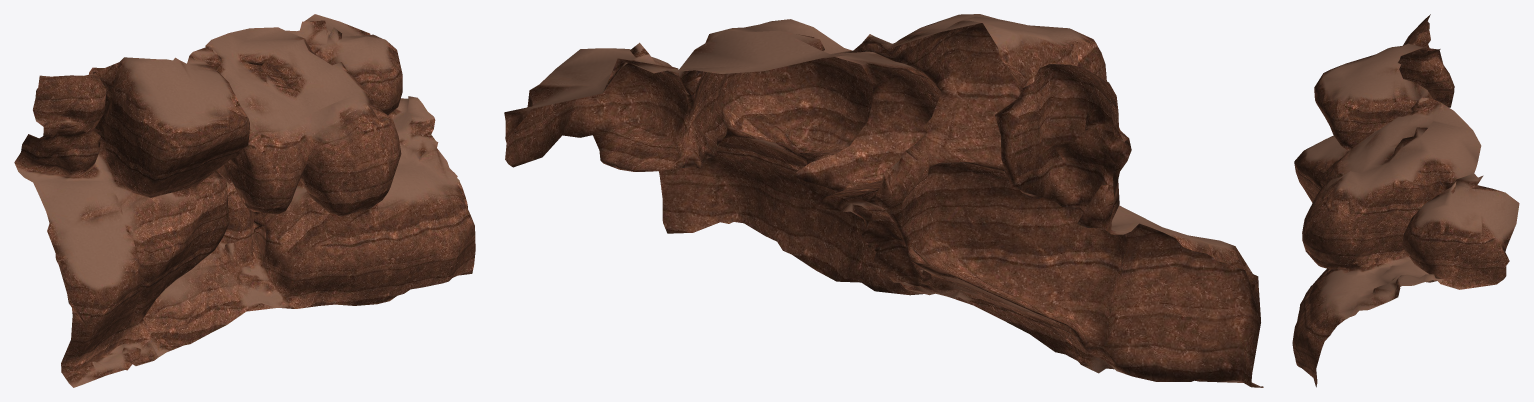
File: canyon_cliff_a.glb
3 renders of one model, left to right at view 1: azimuth 30°, elevation 25°; view 2: azimuth 150°, elevation 25°; view 3: azimuth 270°, elevation 25°, orthographic. The views are drawn at different scales.
Visible parts, largest first — view 1: canyon_cliff_a; view 2: canyon_cliff_a; view 3: canyon_cliff_a.
Part boxes in pixels (x1,y1,x2,y2): canyon_cliff_a: [14, 14, 475, 387]; canyon_cliff_a: [504, 14, 1263, 387]; canyon_cliff_a: [1292, 14, 1519, 387].
Size of the model in its own units: 38.06 by 22.74 by 20.17.
Materials: 1 (1 with a texture image).
